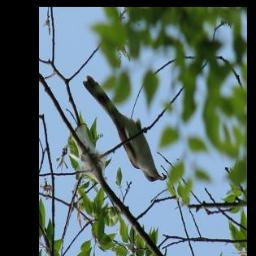Cuckoo: (82, 79, 165, 185)
